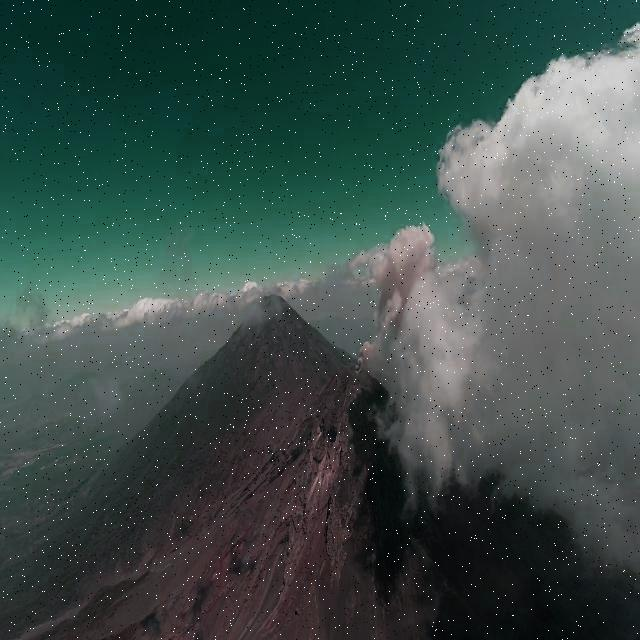Plume: (360, 215, 439, 367), (356, 336, 372, 368)
Summit: (280, 364, 419, 488)
